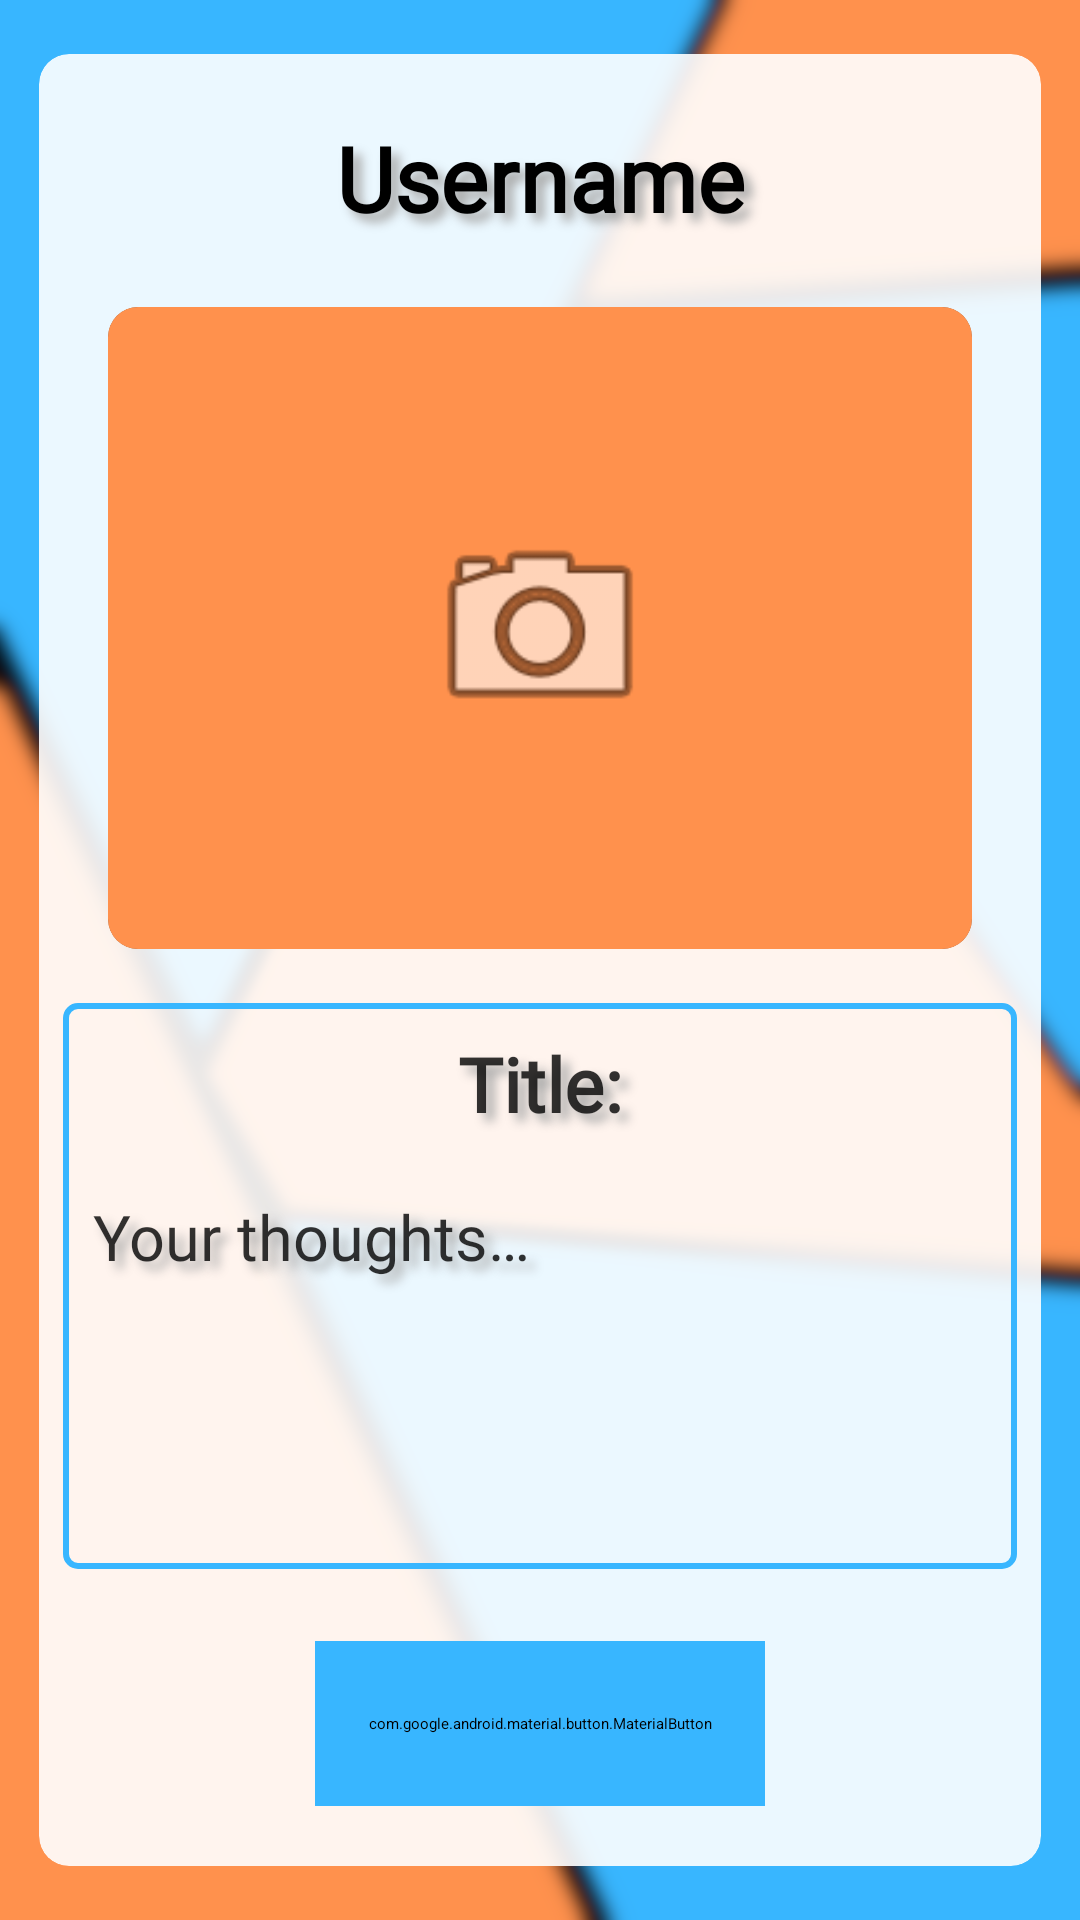

Screen size 1080 × 1920. Icon name, then its center in pixels as point (x, y):
camera: point (540, 624)
